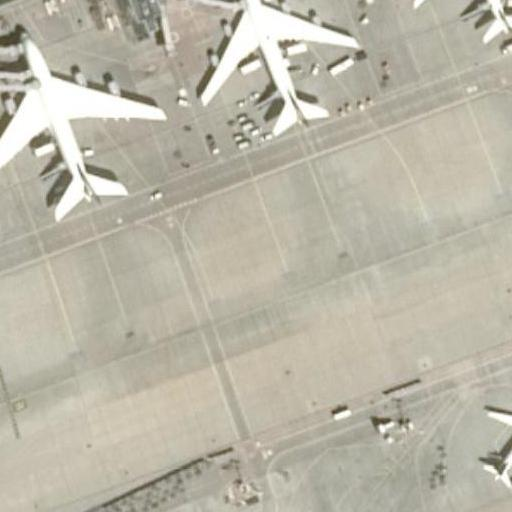Aircraft: (0, 13, 153, 223), (184, 0, 366, 145), (406, 0, 512, 54), (477, 363, 512, 495)
